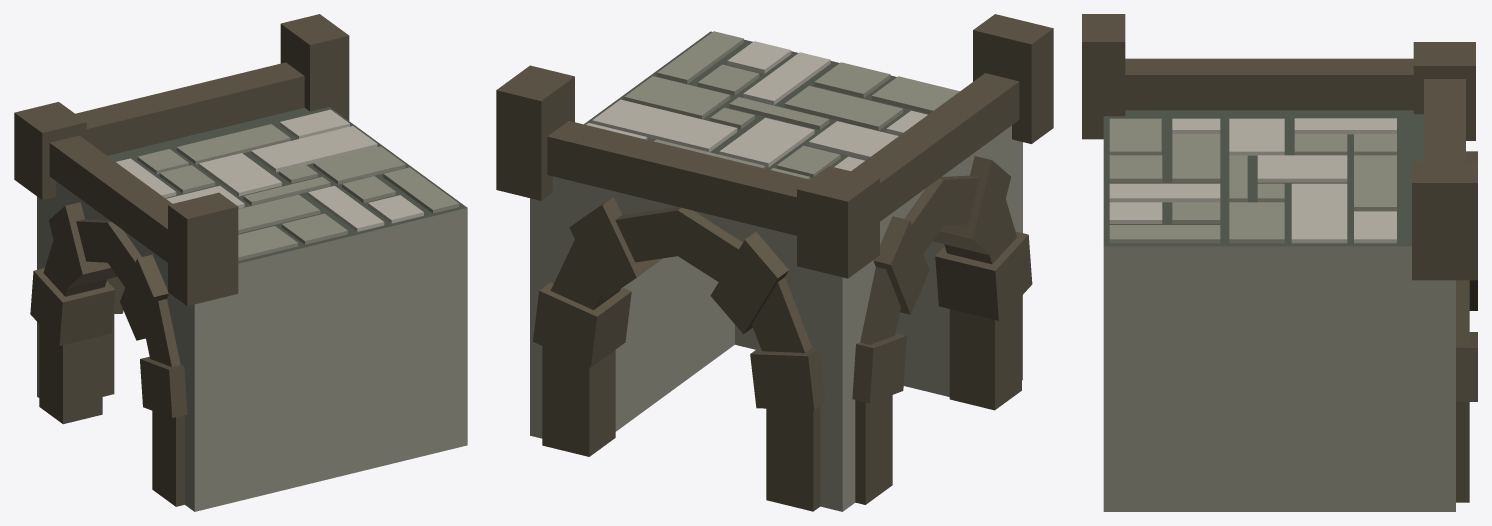
Rendered from ElbowFilled.fbx.
The picture shows the model from 3 angles, left to right: view 1: azimuth 30°, elevation 25°; view 2: azimuth 150°, elevation 25°; view 3: azimuth 270°, elevation 25°; orthographic projection. The views are drawn at different scales.
Visible parts, largest first — view 1: Stone Bridge - Elbow Filled; view 2: Stone Bridge - Elbow Filled; view 3: Stone Bridge - Elbow Filled.
Boxes of the visible parts, box(x1,y1,x2,y2) form: Stone Bridge - Elbow Filled: box(14, 14, 467, 511); Stone Bridge - Elbow Filled: box(496, 14, 1053, 511); Stone Bridge - Elbow Filled: box(1082, 14, 1477, 511).
Bounding box in the file's own units: 90.76 × 85.16 × 89.9.
